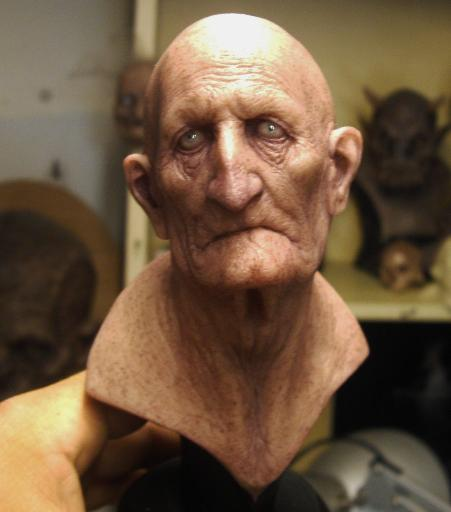left_eye: (252, 120, 296, 143)
left_lip_corner: (273, 225, 289, 238)
right_eye: (178, 128, 208, 149)
right_lip_corner: (200, 238, 222, 253)
